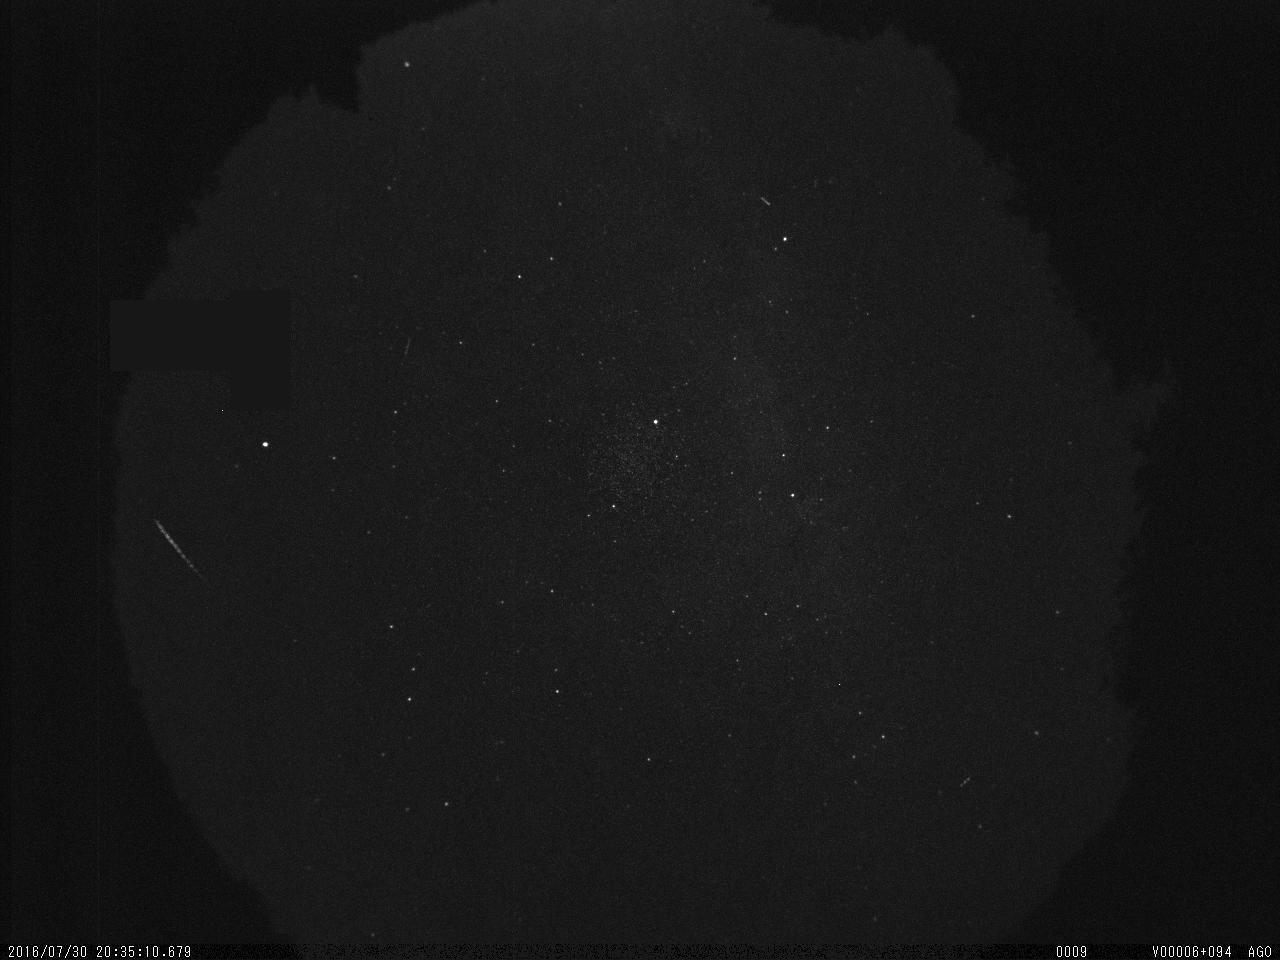meteor: (143, 506, 233, 592)
